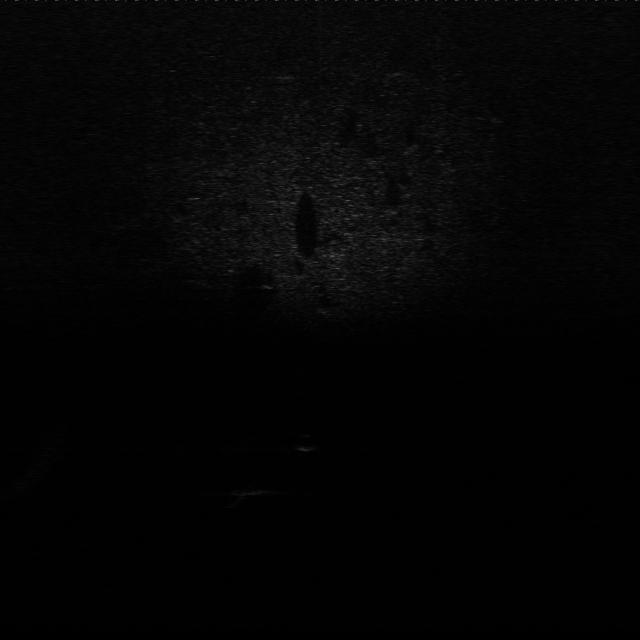ball: (293, 431, 319, 453)
square cage: (230, 482, 280, 503)
